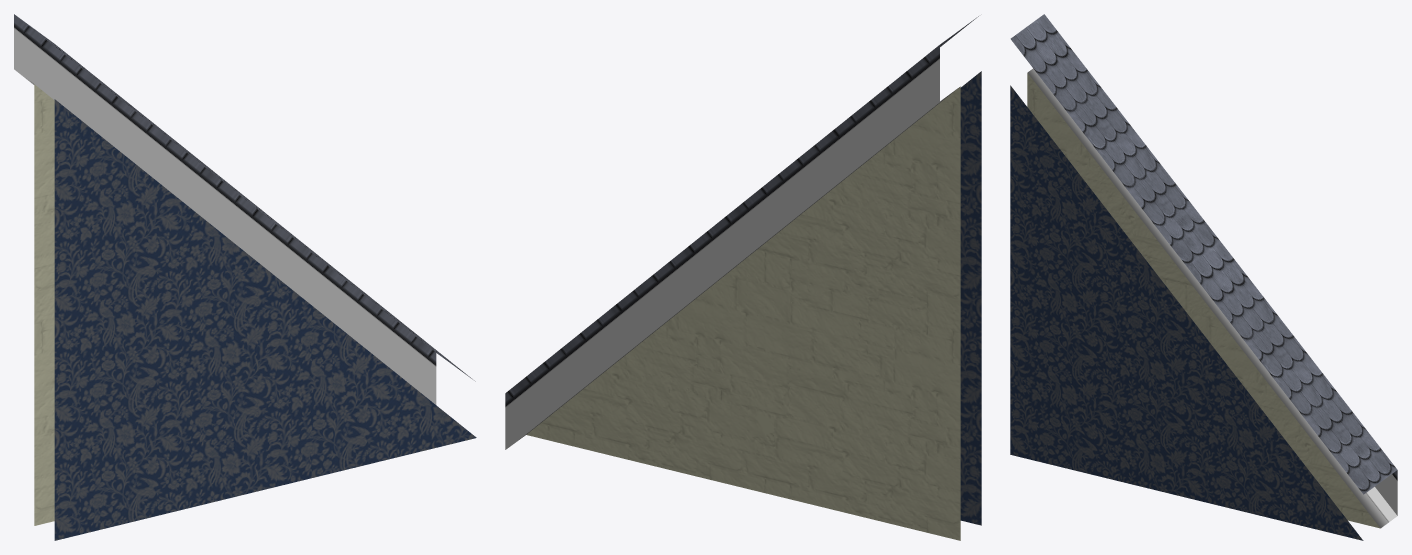
File: wallRoofLeft.fbx
The picture shows the model from 3 angles, left to right: view 1: azimuth 30°, elevation 25°; view 2: azimuth 150°, elevation 25°; view 3: azimuth 330°, elevation 25°; orthographic projection. The views are drawn at different scales.
Parts seen in each view (by area): view 1: wallRoofLeft, roofEndLeft; view 2: wallRoofLeft, roofEndLeft; view 3: wallRoofLeft, roofEndLeft.
Boxes of the visible parts, x1,y1,x2,y2 form: wallRoofLeft: (34, 84, 476, 540); roofEndLeft: (14, 14, 475, 404); wallRoofLeft: (526, 71, 981, 540); roofEndLeft: (505, 16, 978, 449); wallRoofLeft: (1010, 73, 1380, 540); roofEndLeft: (1010, 14, 1397, 528).
Bounding box in the file's own units: 12 × 13.5 × 2.
Materials: 2 (2 with a texture image).
